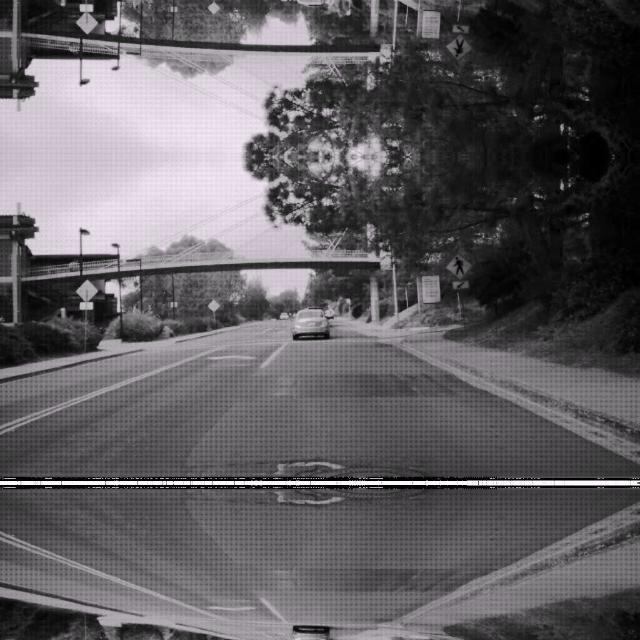pedestrianCrossing: (446, 251, 472, 279), (446, 33, 472, 61)
